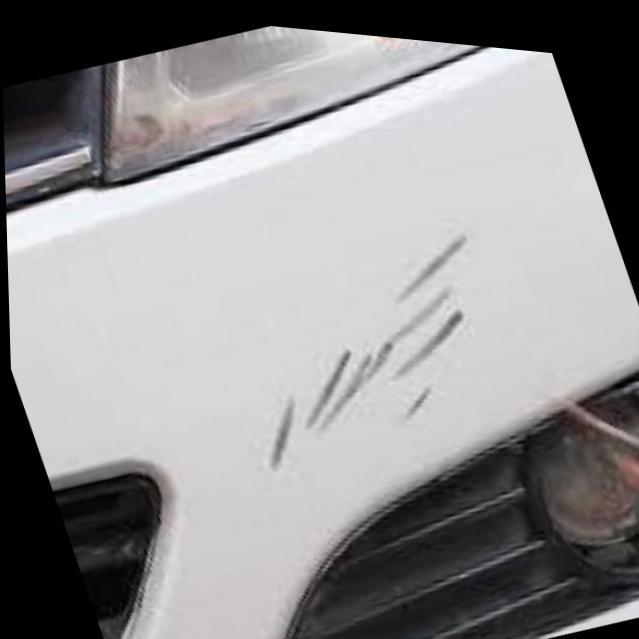rub: (252, 223, 469, 475)
